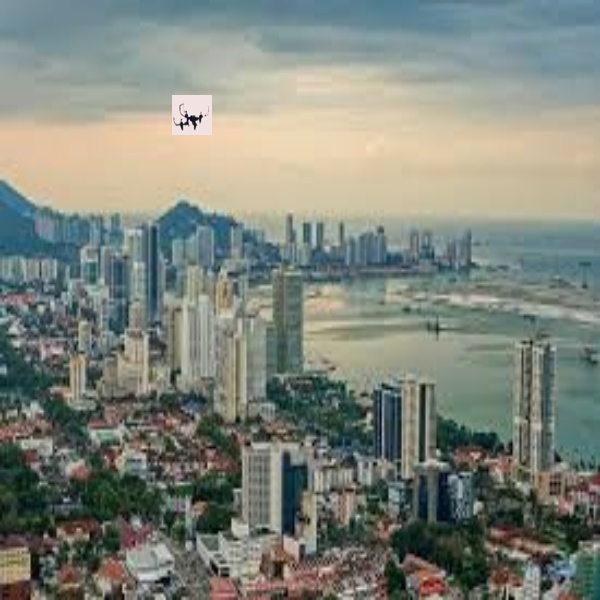drone: (169, 90, 214, 133)
